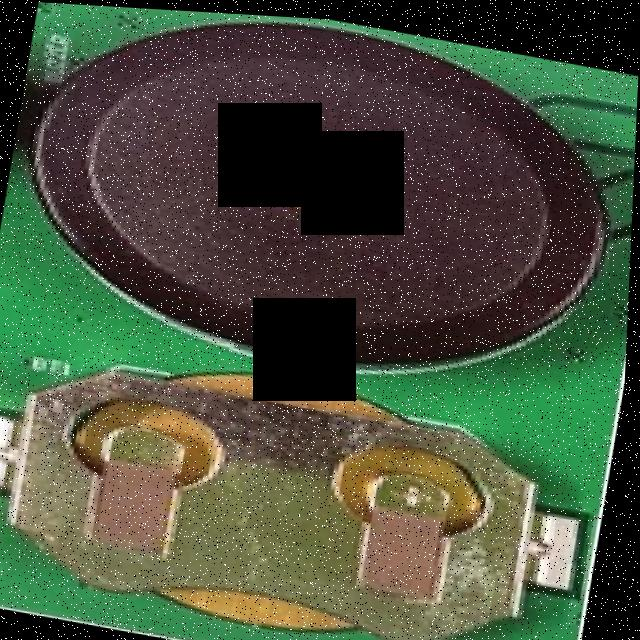battery: (0, 324, 599, 640)
buzzer: (0, 0, 640, 407)
